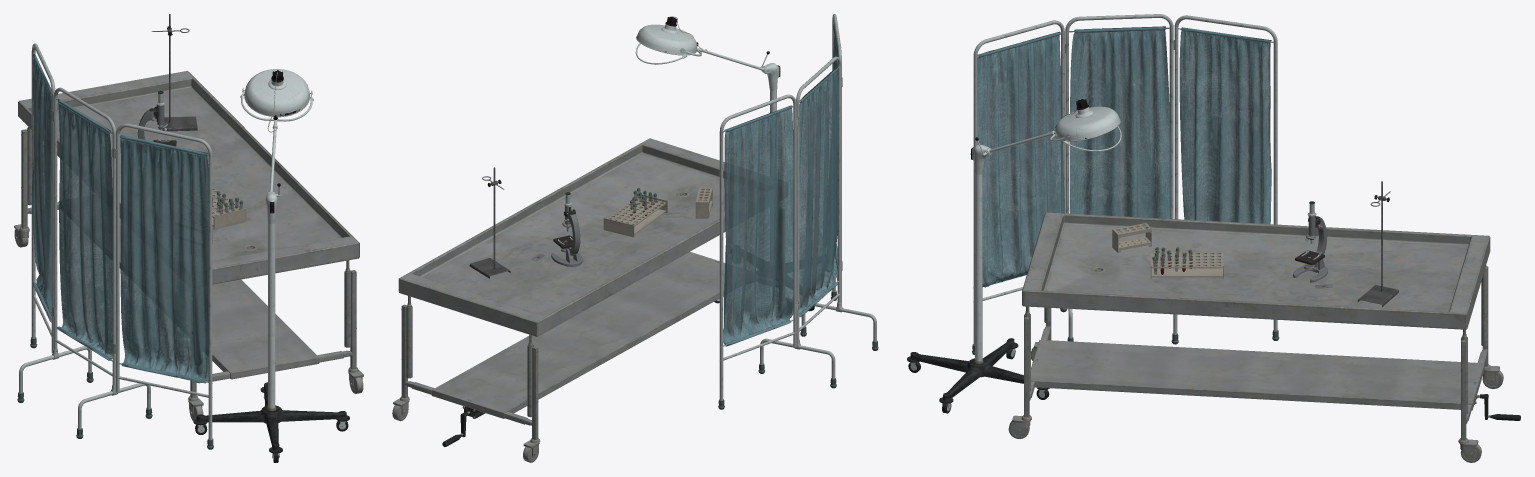
The model's file is autopsy_lab.glb.
The picture shows the model from 3 angles, left to right: view 1: azimuth 30°, elevation 25°; view 2: azimuth 150°, elevation 25°; view 3: azimuth 270°, elevation 25°; orthographic projection. The views are drawn at different scales.
Parts seen in each view (by area): view 1: DissectionTable_Main_20, MedicalPartition_Curtain01_2, MedicalPartition_Curtain00_6, MedicalPartition_Curtain02_0, MedicalPartition_Side_01_3, MedicalPartition_Main_4, DissectionTable_Legs_16, MedicalLight_Shade_9, MedicalLight_Legs_13, MedicalPartition_Side_1, MedicalLight_Stand_12, MedicalPartition_Main_Legs_5 (+5 smaller); view 2: DissectionTable_Main_20, MedicalPartition_Curtain02_0, MedicalPartition_Curtain00_6, MedicalPartition_Side_1, DissectionTable_Legs_16, MedicalPartition_Main_4, VialHolder_Short_33, MedicalLight_Shade_9, MedicalPartition_Main_Legs_5, LabTripod_Base_37, MedicalPartition_Side_01_3, MedicalPartition_Curtain01_2 (+1 smaller); view 3: DissectionTable_Main_20, MedicalPartition_Curtain01_2, MedicalPartition_Curtain00_6, MedicalPartition_Curtain02_0, DissectionTable_Legs_16, MedicalLight_Legs_13, MedicalPartition_Side_1, MedicalPartition_Main_4, MedicalPartition_Side_01_3, MedicalLight_Stand_12, MedicalLight_Shade_9, VialHolder_Short_33 (+4 smaller).
Boxes of the visible parts, left/top/right/bottom form: DissectionTable_Main_20: left=18, top=71, right=359, bottom=379; MedicalPartition_Curtain01_2: left=120, top=135, right=208, bottom=383; MedicalPartition_Curtain00_6: left=57, top=98, right=112, bottom=360; MedicalPartition_Curtain02_0: left=31, top=54, right=51, bottom=322; MedicalPartition_Side_01_3: left=114, top=123, right=213, bottom=449; MedicalPartition_Main_4: left=51, top=87, right=118, bottom=395; DissectionTable_Legs_16: left=19, top=127, right=358, bottom=401; MedicalLight_Shade_9: left=244, top=69, right=310, bottom=120; MedicalLight_Legs_13: left=193, top=382, right=349, bottom=462; MedicalPartition_Side_1: left=30, top=43, right=55, bottom=353; MedicalLight_Stand_12: left=265, top=192, right=277, bottom=410; MedicalPartition_Main_Legs_5: left=17, top=346, right=152, bottom=438; DissectionTable_Main_20: left=398, top=138, right=776, bottom=418; MedicalPartition_Curtain02_0: left=723, top=105, right=793, bottom=346; MedicalPartition_Curtain00_6: left=792, top=67, right=838, bottom=317; MedicalPartition_Side_1: left=718, top=94, right=798, bottom=409; DissectionTable_Legs_16: left=400, top=216, right=786, bottom=443; MedicalPartition_Main_4: left=794, top=56, right=842, bottom=349; VialHolder_Short_33: left=603, top=193, right=667, bottom=237; MedicalLight_Shade_9: left=636, top=16, right=698, bottom=55; MedicalPartition_Main_Legs_5: left=758, top=303, right=878, bottom=388; LabTripod_Base_37: left=469, top=167, right=510, bottom=278; MedicalPartition_Side_01_3: left=831, top=14, right=842, bottom=305; MedicalPartition_Curtain01_2: left=827, top=24, right=838, bottom=277; DissectionTable_Main_20: left=1022, top=212, right=1490, bottom=410; MedicalPartition_Curtain01_2: left=977, top=31, right=1064, bottom=287; MedicalPartition_Curtain00_6: left=1069, top=26, right=1170, bottom=218; MedicalPartition_Curtain02_0: left=1179, top=27, right=1271, bottom=224; DissectionTable_Legs_16: left=1021, top=265, right=1490, bottom=443; MedicalLight_Legs_13: left=907, top=338, right=1049, bottom=413; MedicalPartition_Side_1: left=1174, top=15, right=1279, bottom=340; MedicalPartition_Main_4: left=1065, top=14, right=1174, bottom=218; MedicalPartition_Side_01_3: left=972, top=20, right=1064, bottom=354; MedicalLight_Stand_12: left=970, top=144, right=991, bottom=363; MedicalLight_Shade_9: left=1055, top=99, right=1120, bottom=141; VialHolder_Short_33: left=1150, top=250, right=1223, bottom=279.
Size of the model in its own units: 1.79 by 1.66 by 2.94.
4 materials, 4 textured.
